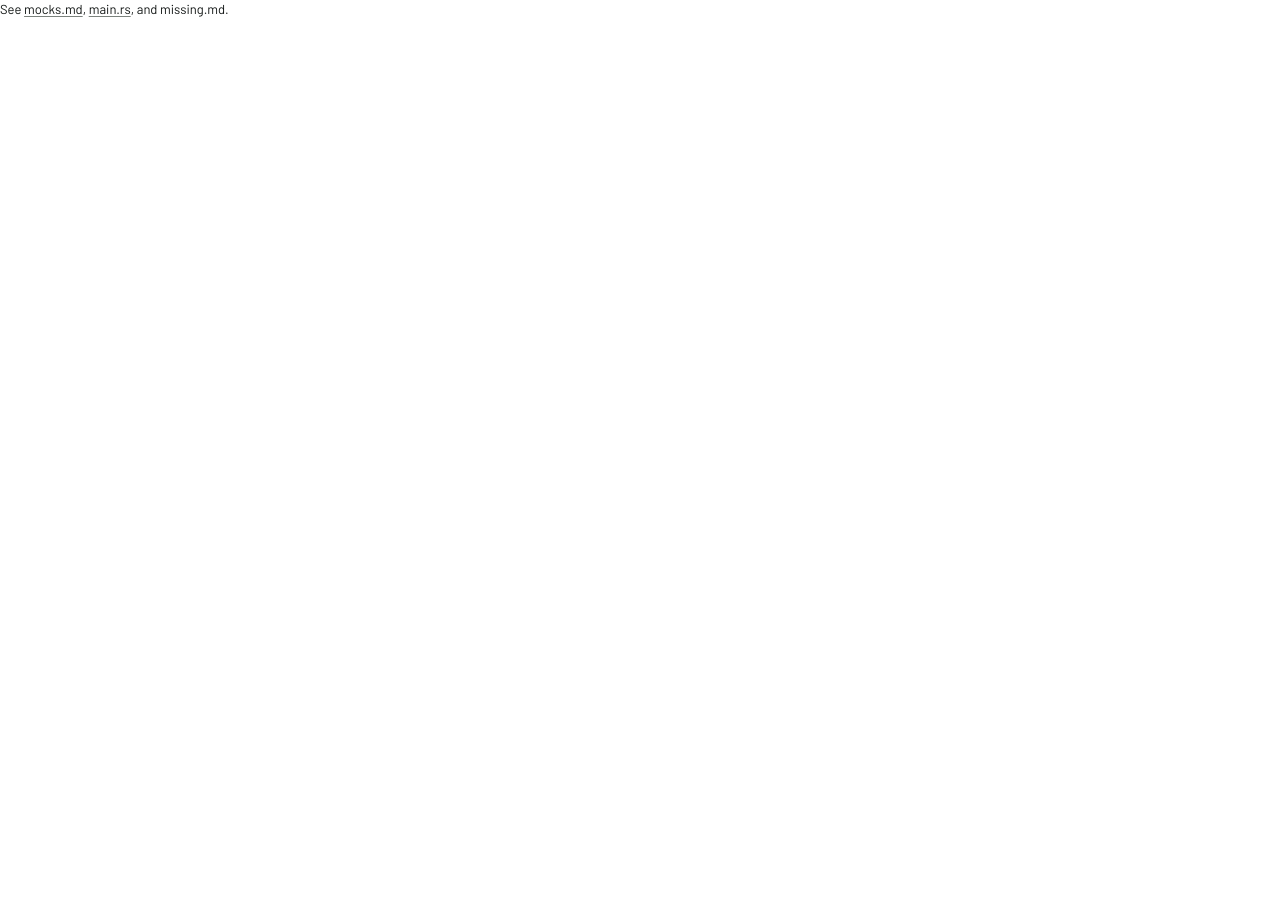
local file links, images and Markdown previews › opens a file:// Markdown link in the in-app preview dialog with carousel navigation, and opens #L anchors in the editor
Later steps or results of the test are not shown.
Click the link with class "ca-md-a" showing "main.rs". click: x=110, y=9
box: [89,1,131,17]
Click the link with class "ca-md-a" showing "mocks.md". click: x=53, y=9
box: [24,1,83,17]
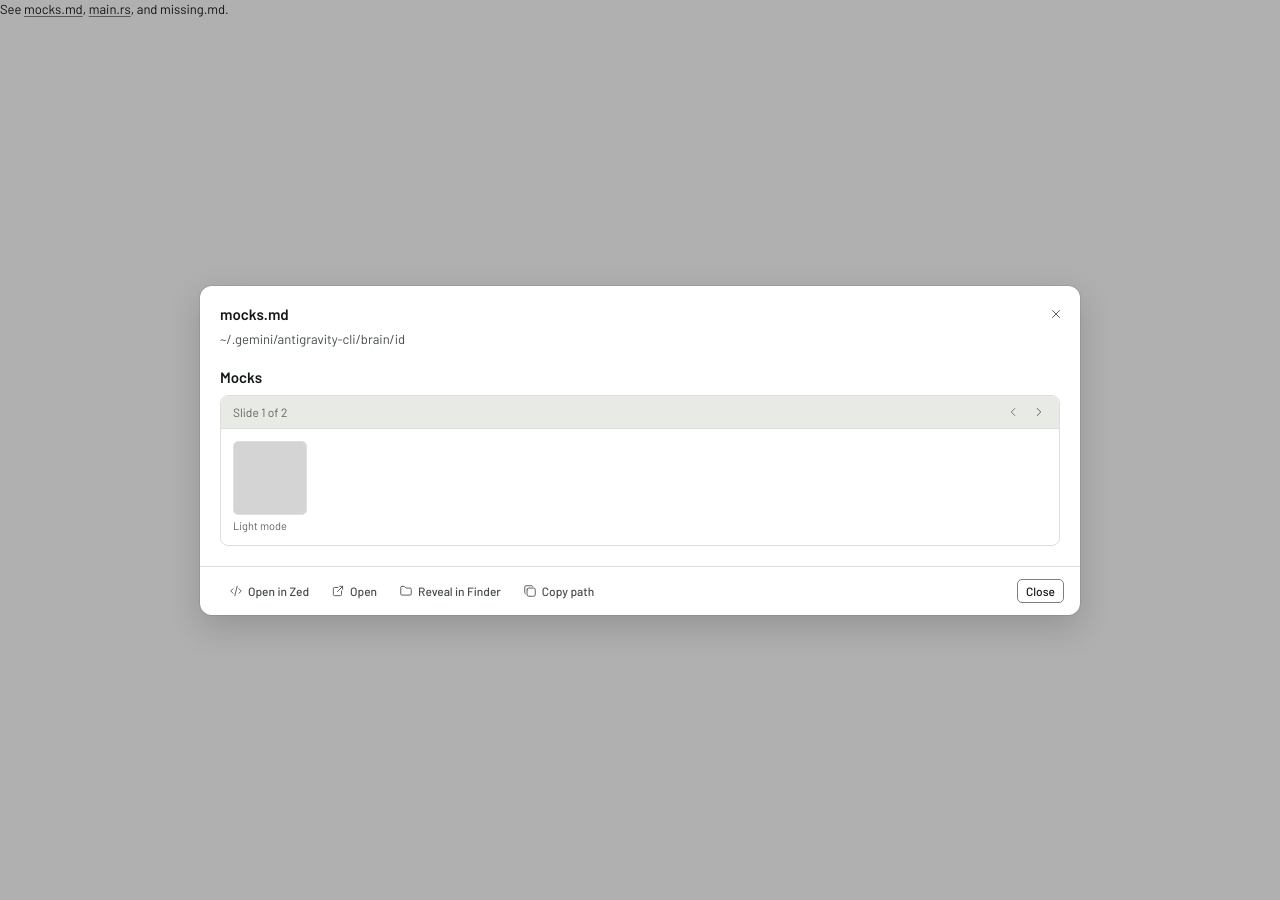
Now the dialog with class "ca-mdpreview" is shown, box [200,286,1080,614]
Now the heading "mocks.md" is shown, box [220,304,289,324]
Now the element with class "ca-md-carousel-head" reads "Slide 1 of 2", box [221,396,1059,428]
